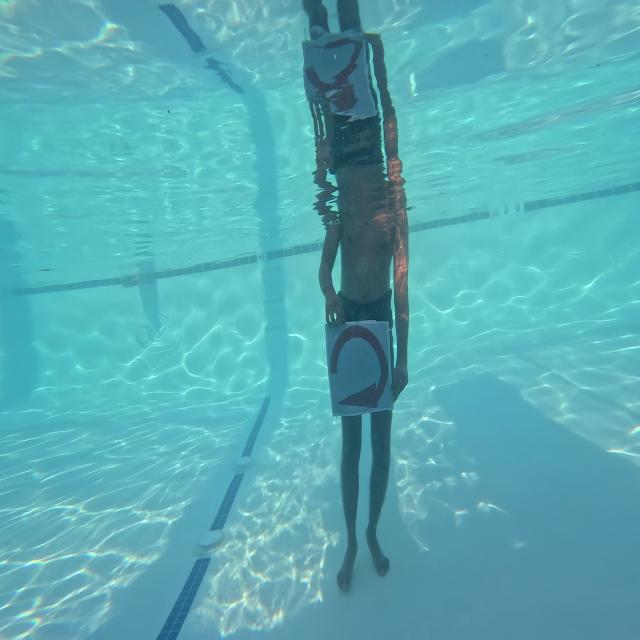red_side: (319, 309, 398, 423)
